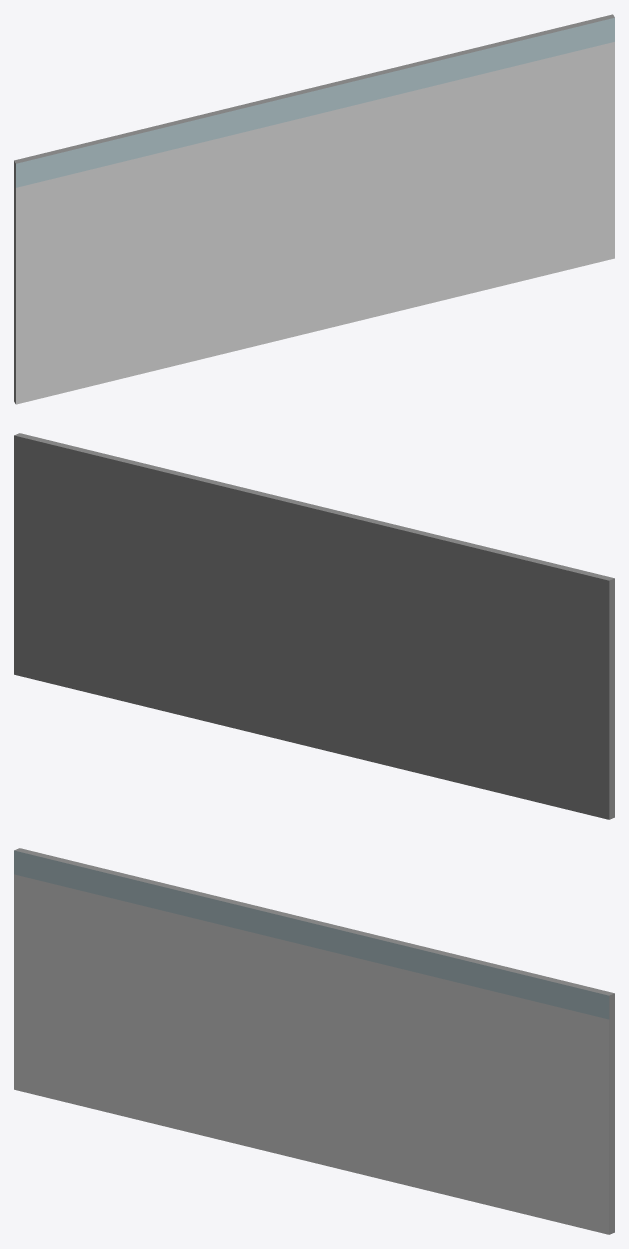
The model's file is wall2.fbx.
The picture shows the model from 3 angles, top to bottom: view 1: azimuth 30°, elevation 25°; view 2: azimuth 150°, elevation 25°; view 3: azimuth 330°, elevation 25°; orthographic projection.
Visible parts, largest first — view 1: pCube12; view 2: pCube12; view 3: pCube12.
Part boxes in pixels (<box>): pCube12: <box>14,14,614,404</box>; pCube12: <box>14,433,614,819</box>; pCube12: <box>14,848,614,1234</box>.
Size of the model in its own units: 14.49 by 5.55 by 0.1632.
